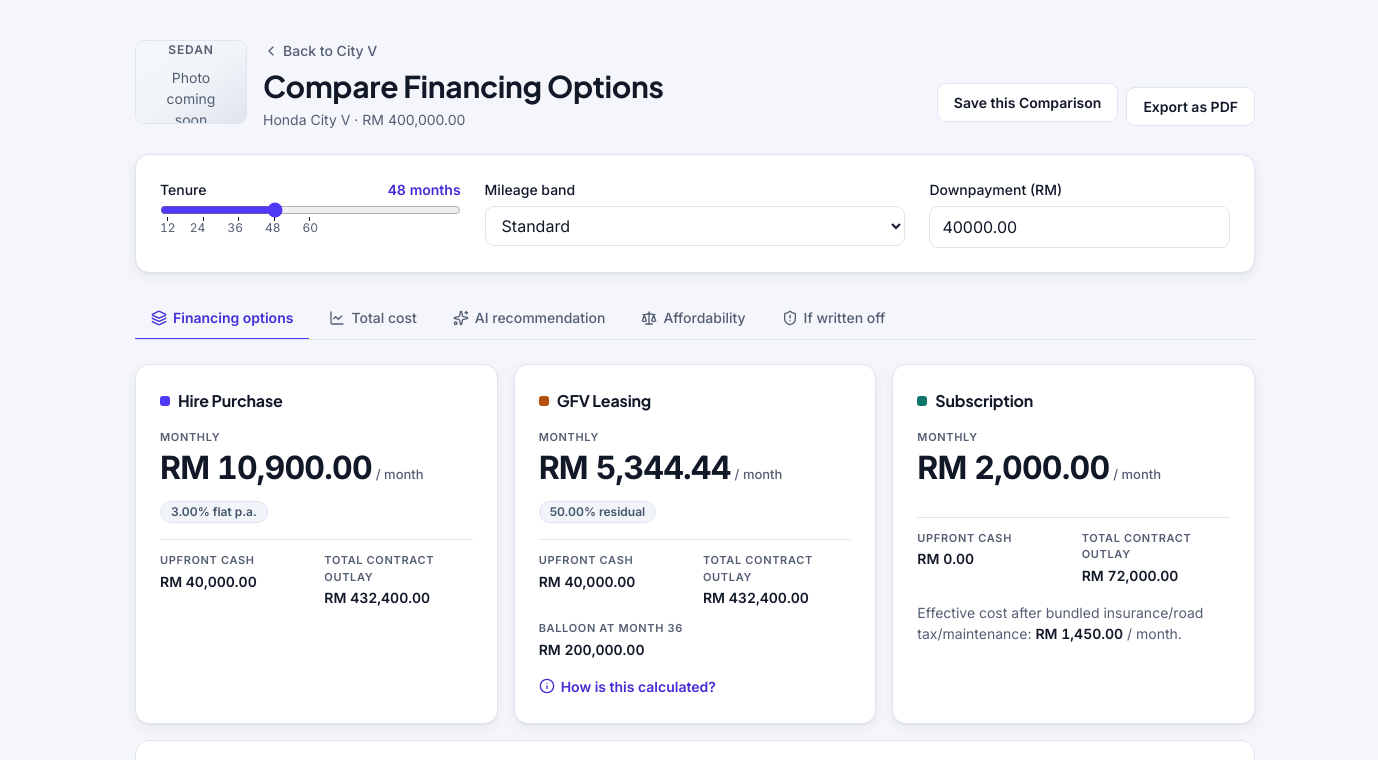
Test: ComparisonPage › TCO Breakdown & Depreciation tab › shows the detail message verbatim on a 400 response
Click the tab "Total cost" at (373, 318), box [313,297,433,340]
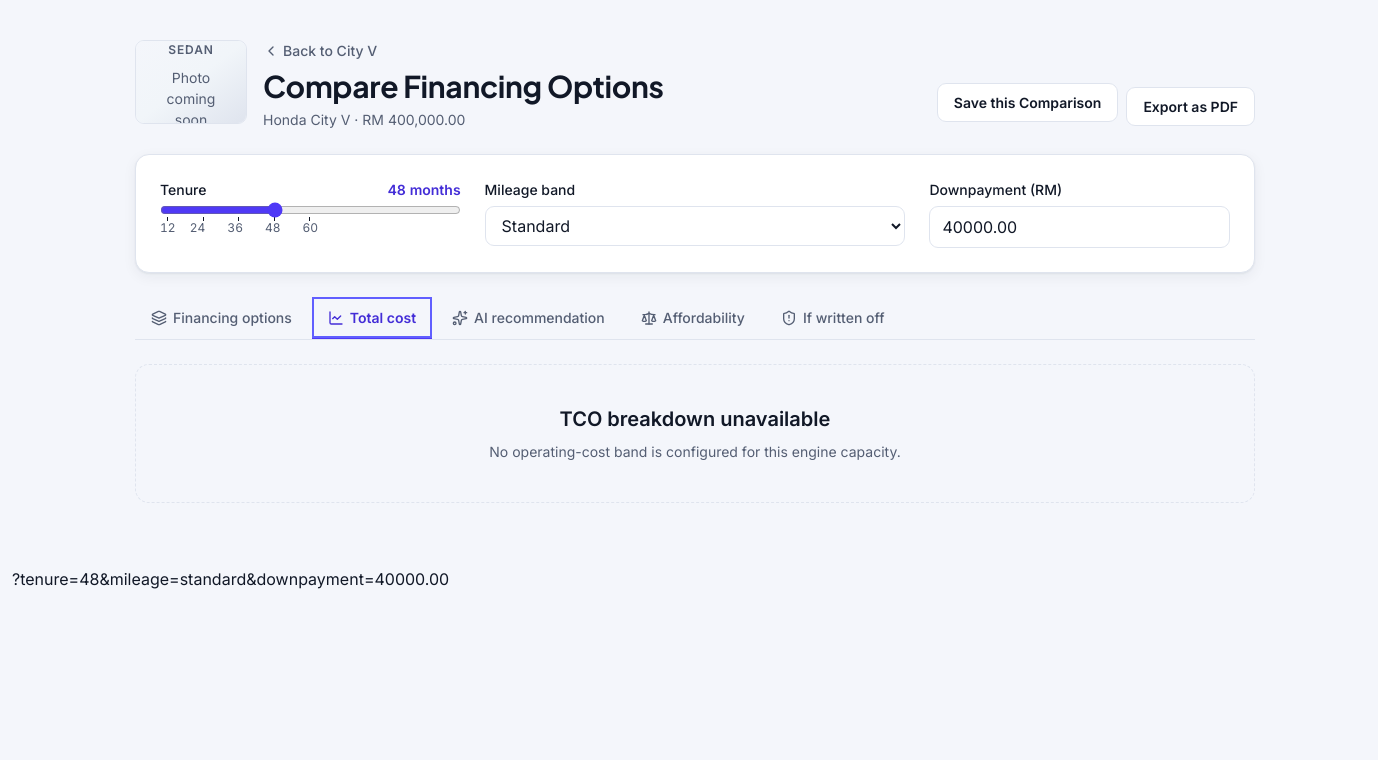
Expected: the text "No operating-cost band is configured for this engine capacity." is shown, [489,441,901,462]
